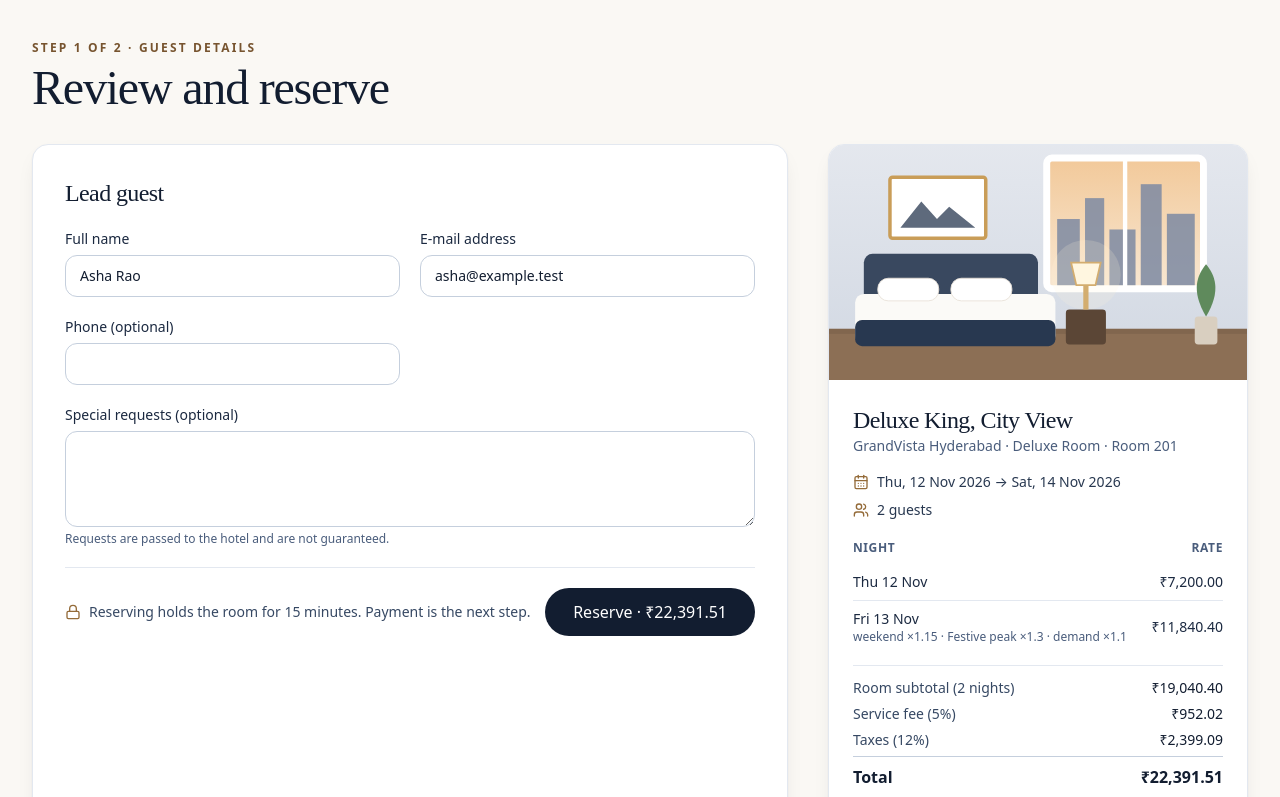
Test: checkout › explains a price change instead of charging a different amount
Click the button "Reserve · ₹22,391.51". click: click(650, 612)
box: [545,588,755,636]
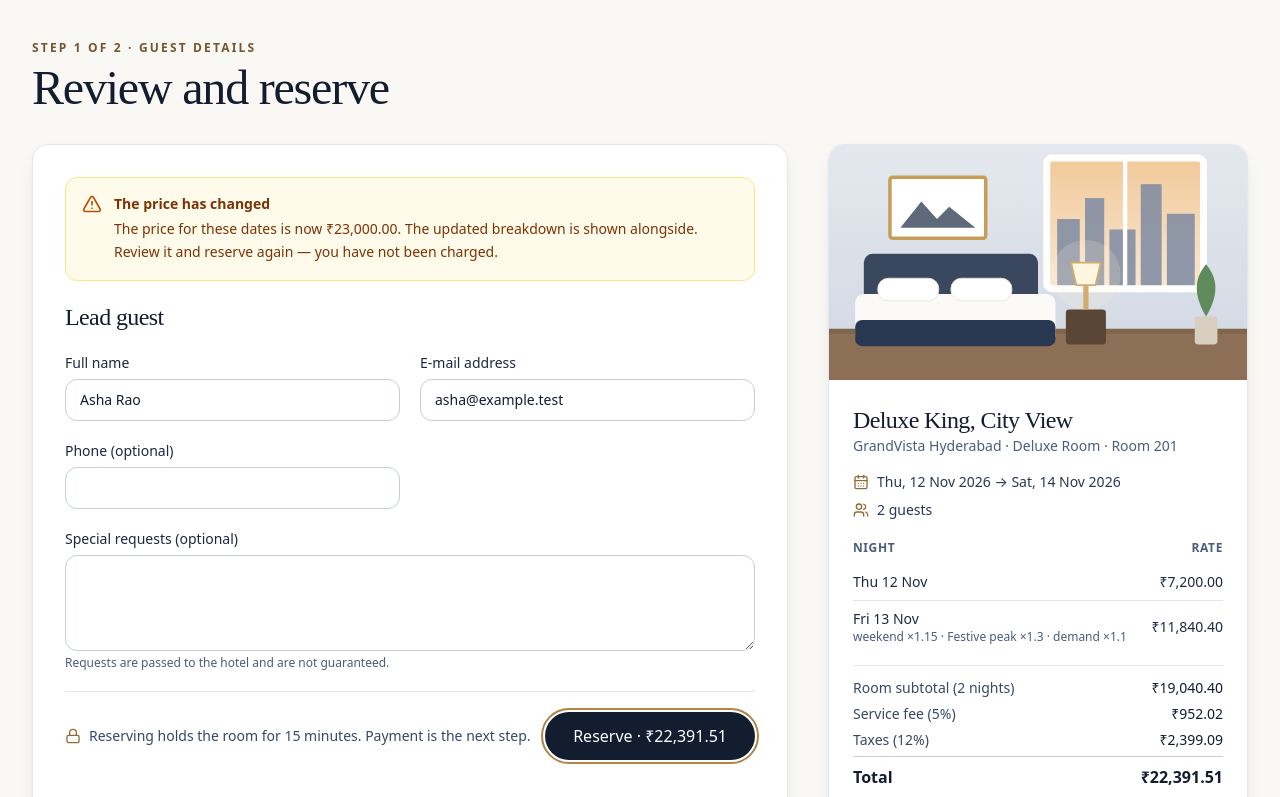
Expected: the text "The price has changed" is shown, [114,194,270,213]
Expected: the text "now ₹23,000.00" is shown, [114,218,738,264]
